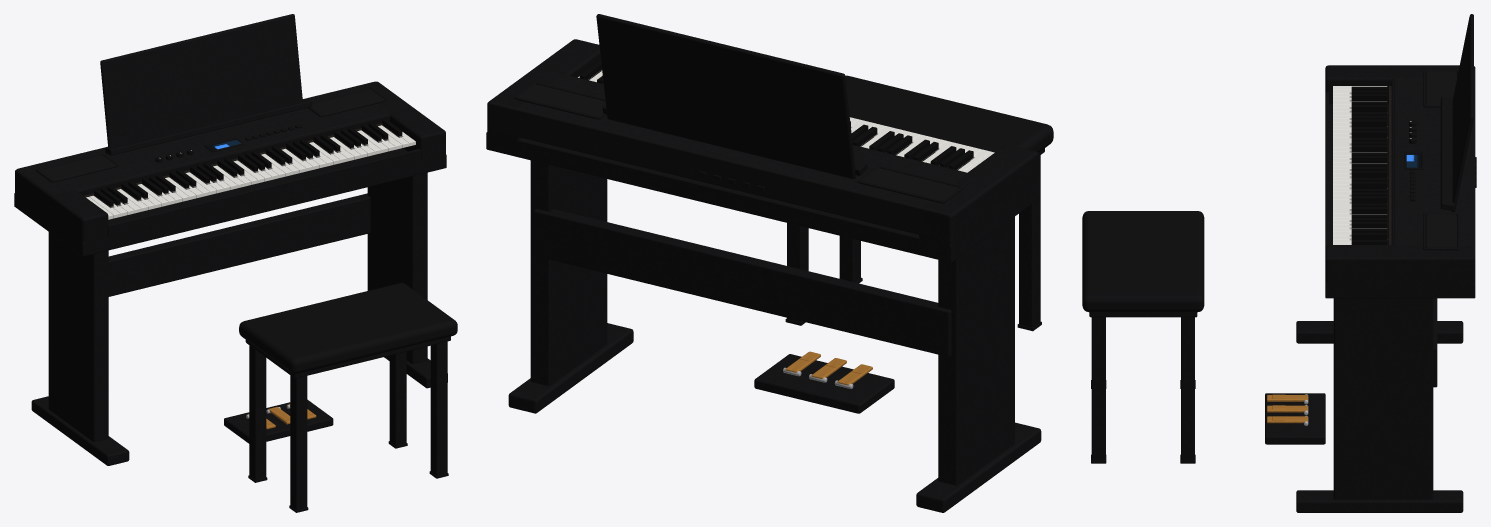
The model's file is KeyboardDigital76.glb.
The picture shows the model from 3 angles, left to right: view 1: azimuth 30°, elevation 25°; view 2: azimuth 150°, elevation 25°; view 3: azimuth 270°, elevation 25°; orthographic projection. The views are drawn at different scales.
Visible parts, largest first — view 1: MusicRest_Board, Bench_Cushion, Stand_Left, Stand_Crossbar, Controls_Panel, Case_Base, Stand_Right, Case_FrontRail, Case_Cheek_Left, Case_Cheek_Right, Bench_Leg_Left_Front, Bench_Leg_Right_Front (+10 smaller); view 2: MusicRest_Board, Stand_Crossbar, Controls_Panel, Stand_Left, Stand_Right, Case_Base, Bench_Cushion, Case_Cheek_Left, Pedals_Base, Case_Cheek_Right, Stand_Foot_Right, Stand_Foot_Left (+6 smaller); view 3: Stand_Right, Bench_Cushion, Controls_Panel, Case_Cheek_Right, Stand_Foot_Right, Case_Base, MusicRest_Board, Pedals_Base, Case_Cheek_Left, Bench_Leg_Right_Front, Bench_Leg_Right_Rear, Stand_Foot_Left (+8 smaller).
Boxes of the visible parts, x1,y1,x2,y2 form: MusicRest_Board: (100, 14, 302, 155); Bench_Cushion: (239, 283, 457, 373); Stand_Left: (48, 232, 108, 442); Stand_Crossbar: (108, 193, 370, 296); Controls_Panel: (17, 81, 410, 204); Case_Base: (14, 138, 446, 256); Stand_Right: (367, 172, 427, 364); Case_FrontRail: (108, 149, 420, 237); Case_Cheek_Left: (15, 169, 108, 253); Case_Cheek_Right: (355, 81, 445, 161); Bench_Leg_Left_Front: (290, 375, 307, 509); Bench_Leg_Right_Front: (430, 341, 447, 475); MusicRest_Board: (596, 14, 856, 179); Stand_Crossbar: (533, 209, 951, 356); Controls_Panel: (489, 69, 968, 239); Stand_Left: (938, 216, 1014, 485); Stand_Right: (530, 160, 607, 385); Case_Base: (486, 132, 1039, 262); Bench_Cushion: (845, 75, 1053, 152); Case_Cheek_Left: (919, 144, 1038, 258); Pedals_Base: (754, 354, 894, 413); Case_Cheek_Right: (487, 39, 601, 151); Stand_Foot_Right: (508, 323, 633, 413); Stand_Foot_Left: (916, 422, 1041, 512); Stand_Right: (1333, 298, 1433, 499); Bench_Cushion: (1082, 211, 1204, 312); Controls_Panel: (1394, 66, 1475, 257); Case_Cheek_Right: (1325, 245, 1475, 295); Stand_Foot_Right: (1296, 490, 1463, 512); Case_Base: (1325, 104, 1475, 298); MusicRest_Board: (1451, 14, 1473, 211); Pedals_Base: (1265, 393, 1325, 444); Case_Cheek_Left: (1325, 65, 1459, 104); Bench_Leg_Right_Front: (1091, 317, 1105, 460); Bench_Leg_Right_Rear: (1181, 317, 1194, 460); Stand_Foot_Left: (1296, 321, 1463, 343).
Size of the model in its own units: 1.22 by 1.05 by 1.05.
Materials: 86 (86 with a texture image).
